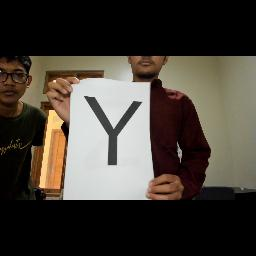y: (80, 93, 156, 175)
